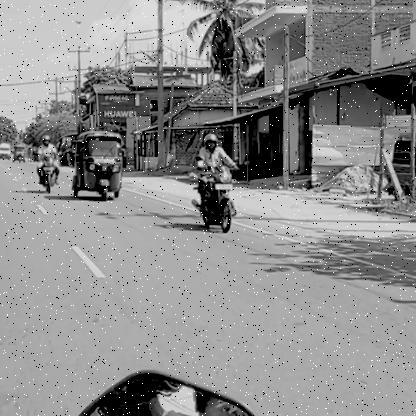motorcycle: (189, 164, 242, 236)
